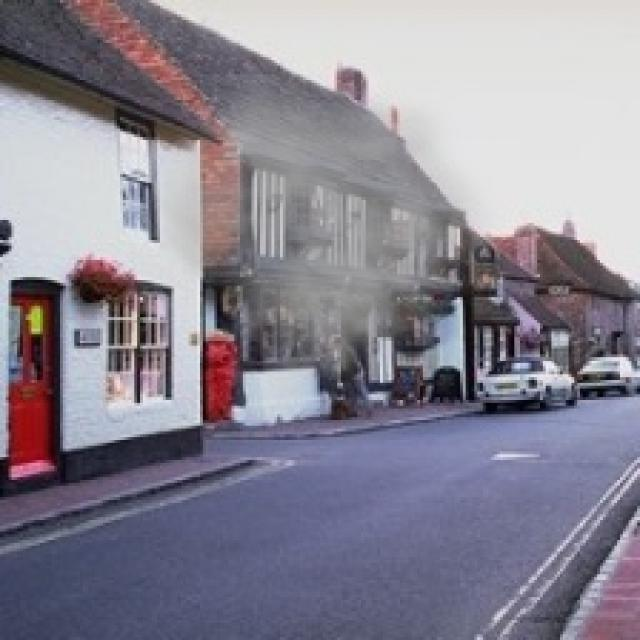Smoke: (134, 74, 509, 417)
